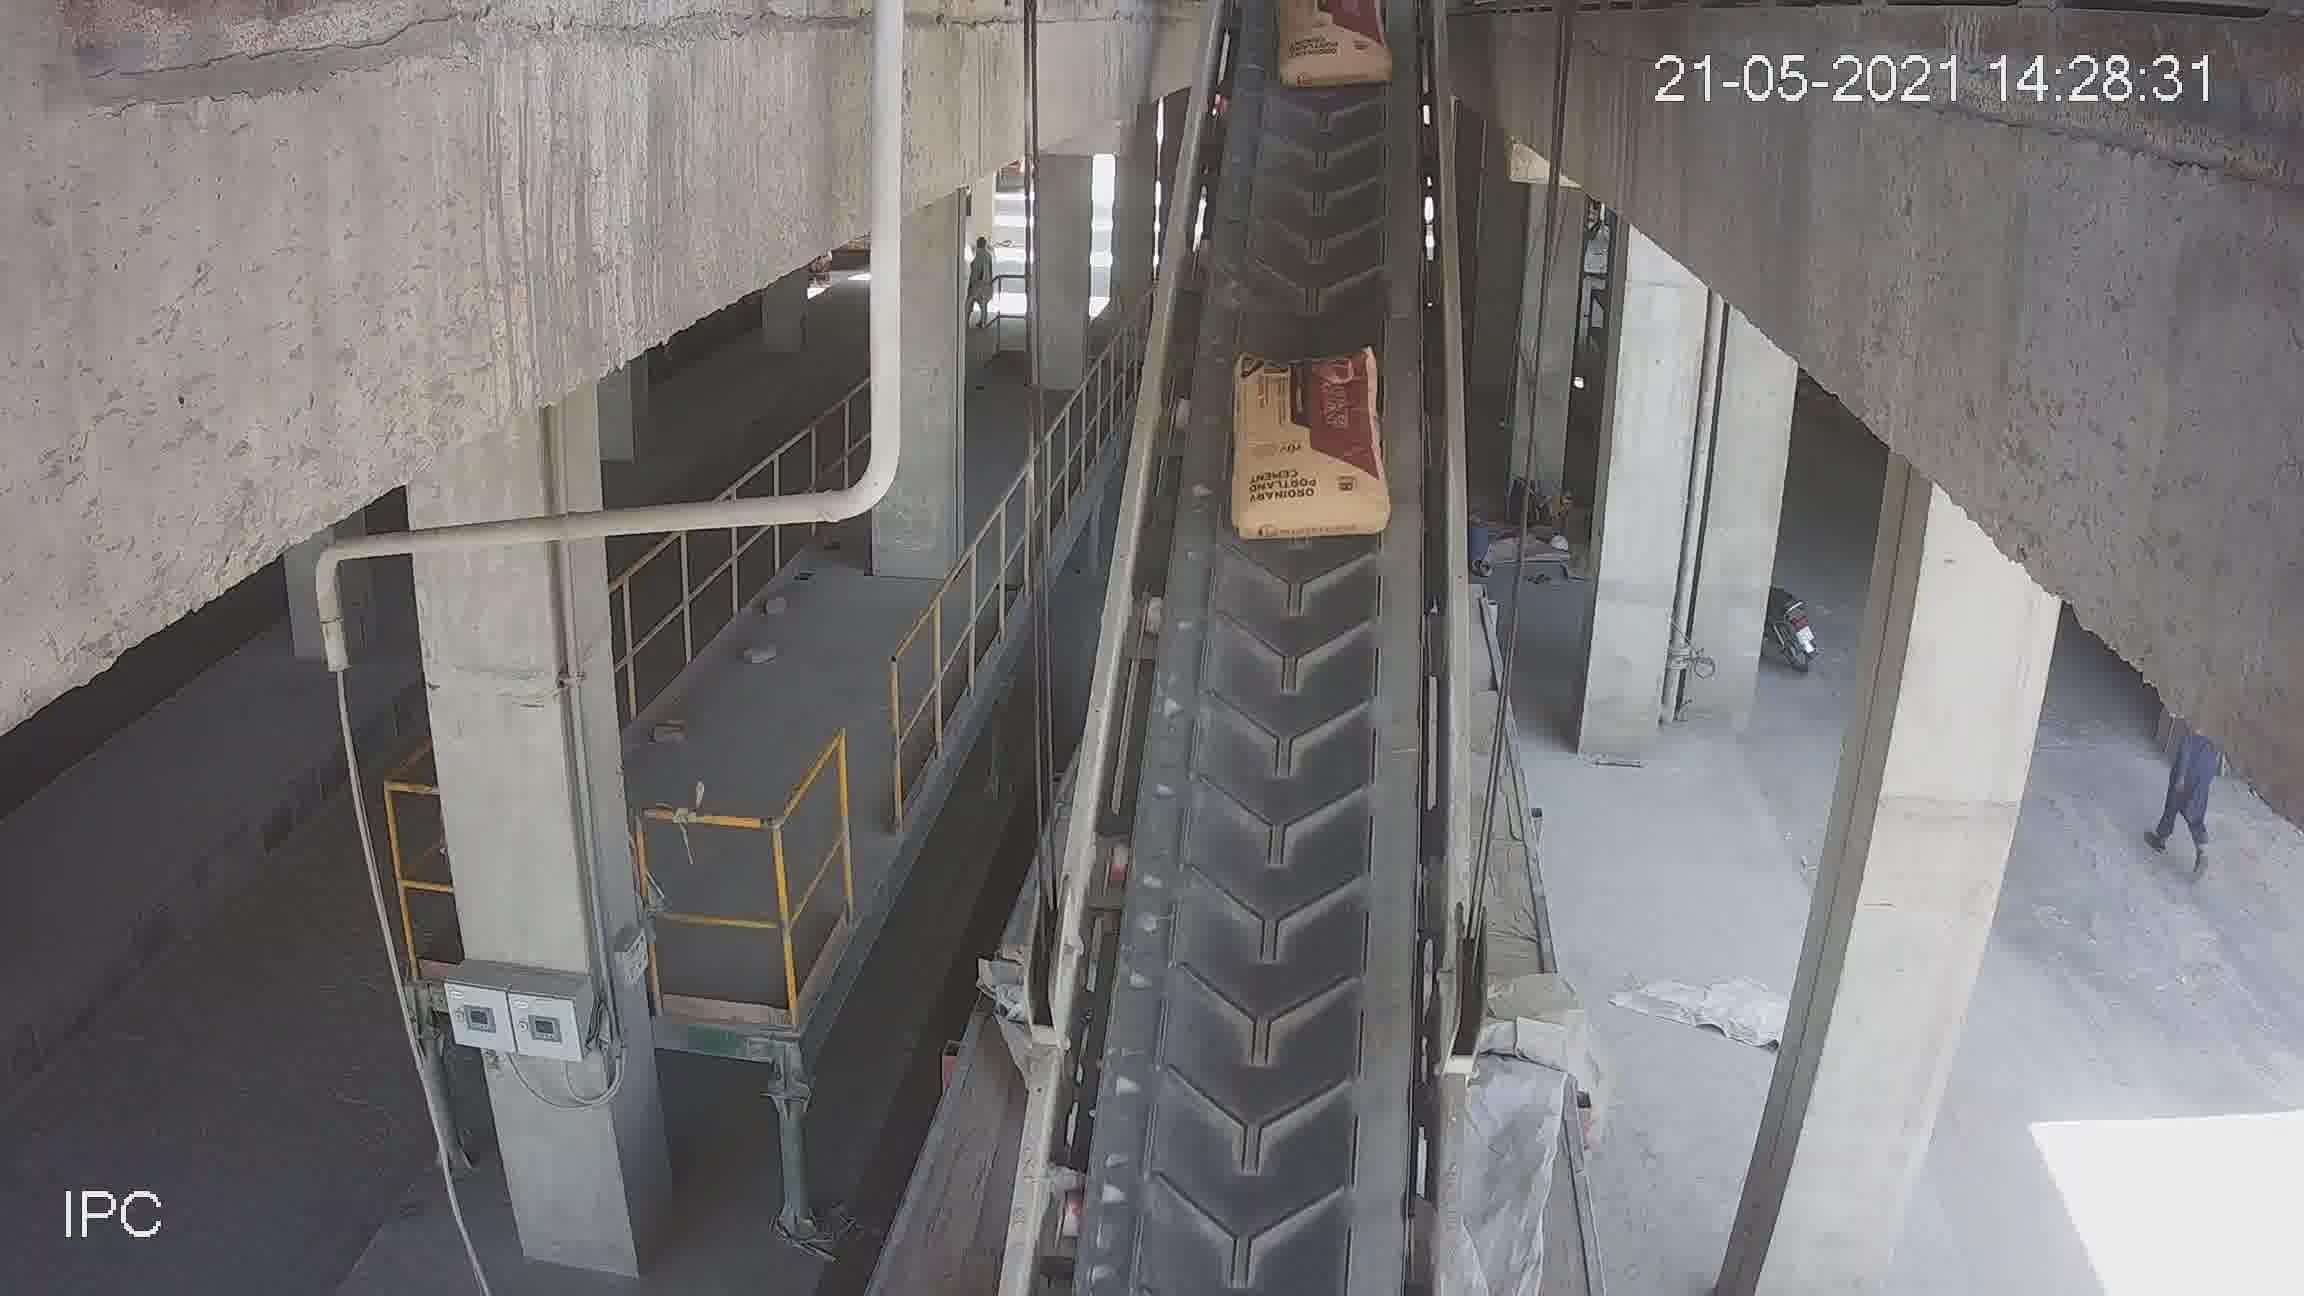bag: (1231, 347, 1377, 541), (1283, 5, 1381, 79)
belt: (1044, 52, 1465, 1279)
